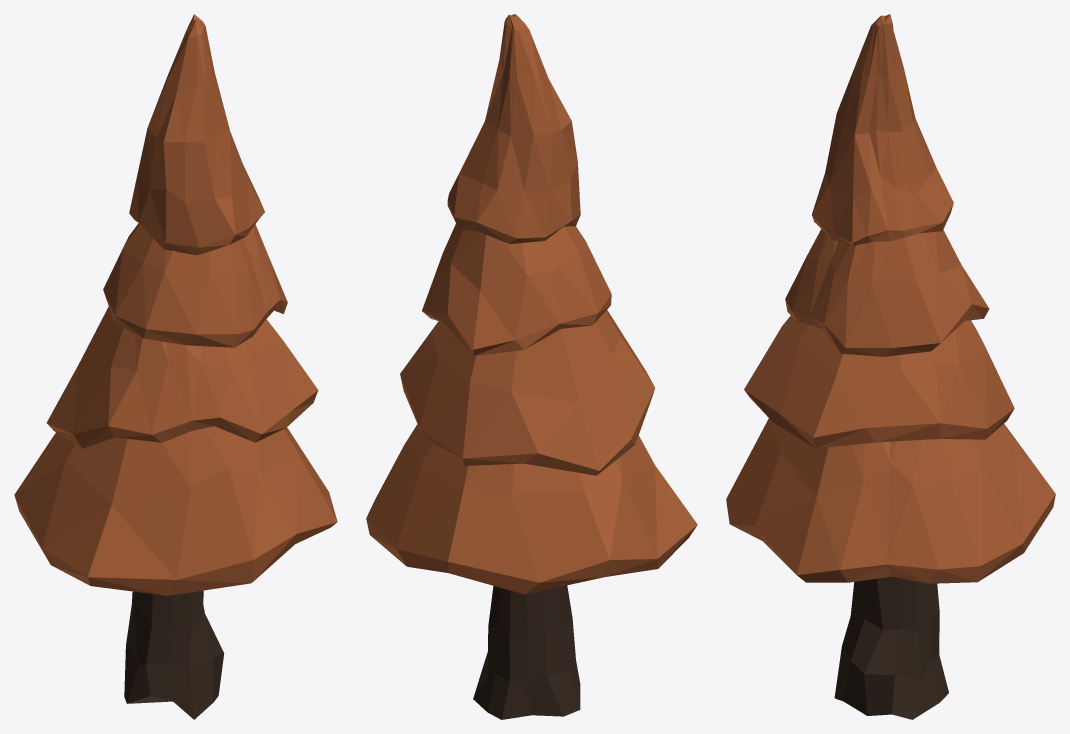
Rendered from pine_tree_3_autumn.glb.
3 views of the same model, side by side, from view 1: azimuth 30°, elevation 25°; view 2: azimuth 150°, elevation 25°; view 3: azimuth 270°, elevation 25° (orthographic). The views are drawn at different scales.
Parts seen in each view (by area): view 1: pine_tree_3_autumn; view 2: pine_tree_3_autumn; view 3: pine_tree_3_autumn.
Part boxes in pixels (x1,y1,x2,y2): pine_tree_3_autumn: (14,14,337,719); pine_tree_3_autumn: (366,14,697,719); pine_tree_3_autumn: (726,14,1055,719).
Bounding box in the file's own units: 1.58 × 3.94 × 1.69.
